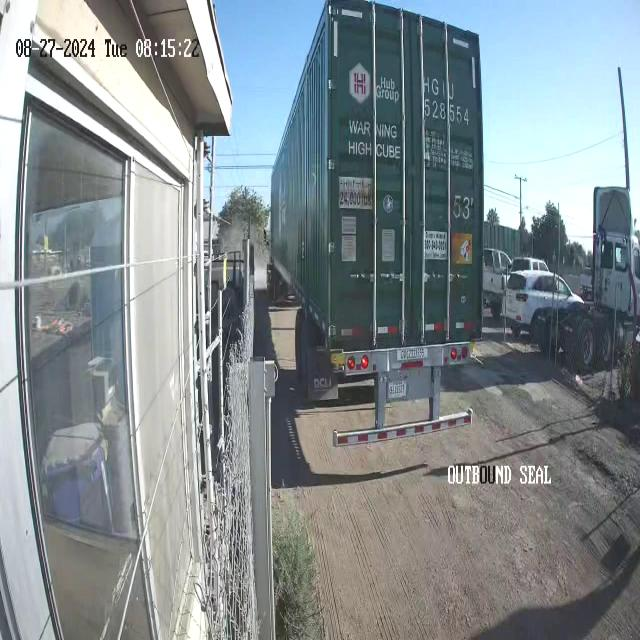TRUCK_CONTAINER: (264, 2, 485, 450)
